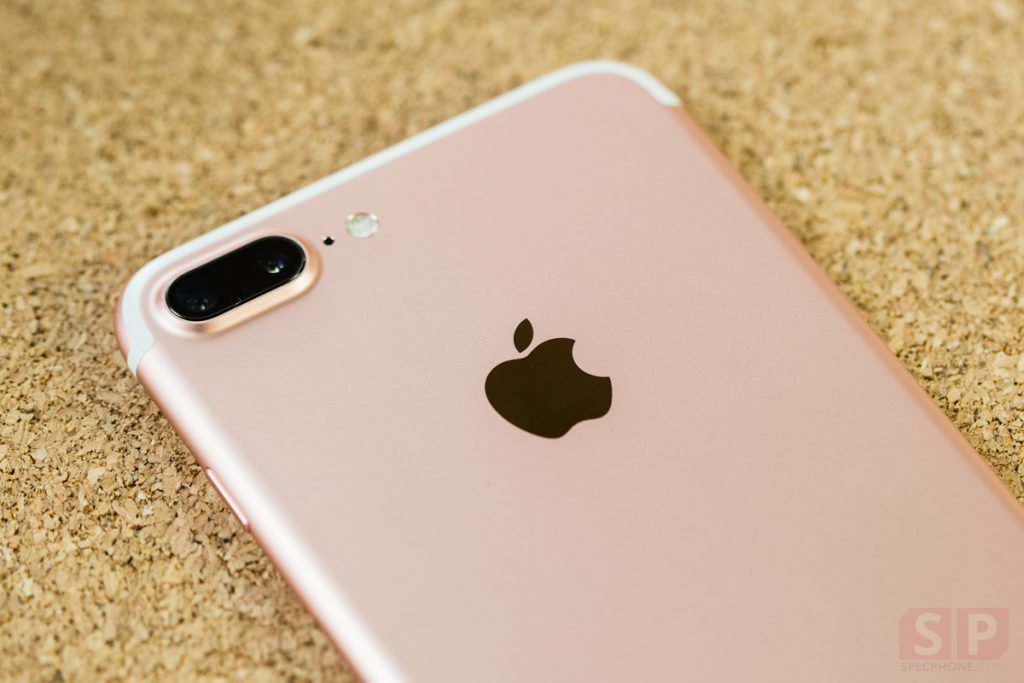phone: (110, 46, 1024, 683)
